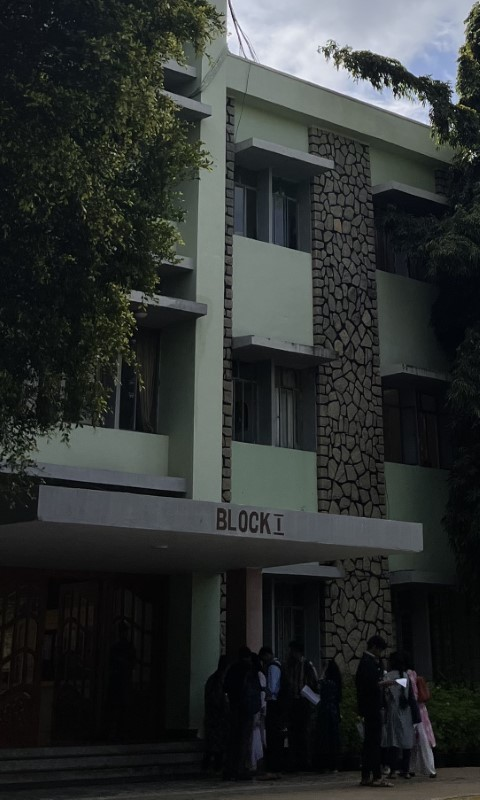Block 1: (54, 88, 468, 750)
